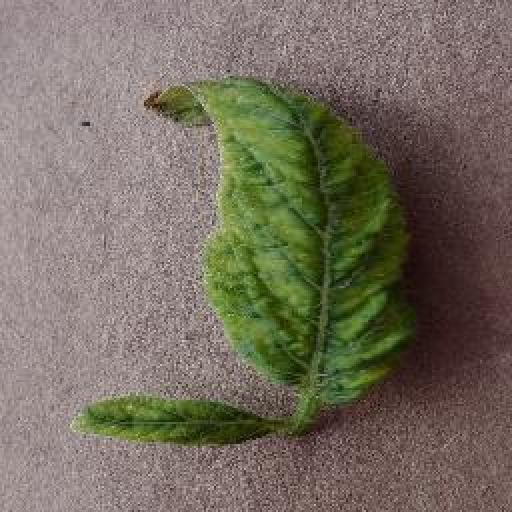Yellow Leaf Curl Virus: (144, 76, 414, 408), (68, 393, 276, 455)
